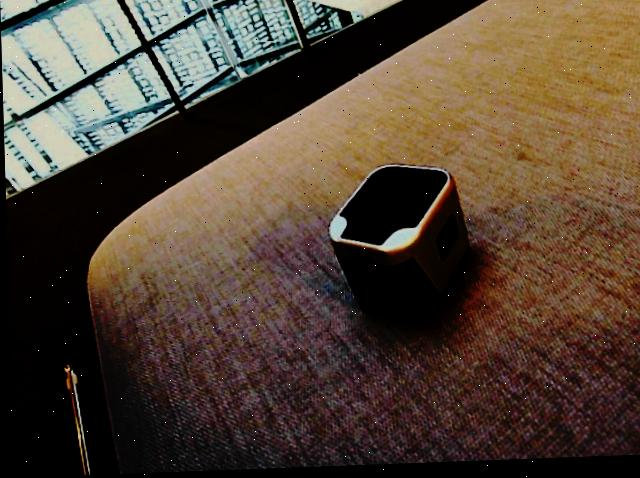adapter: (324, 164, 470, 328)
